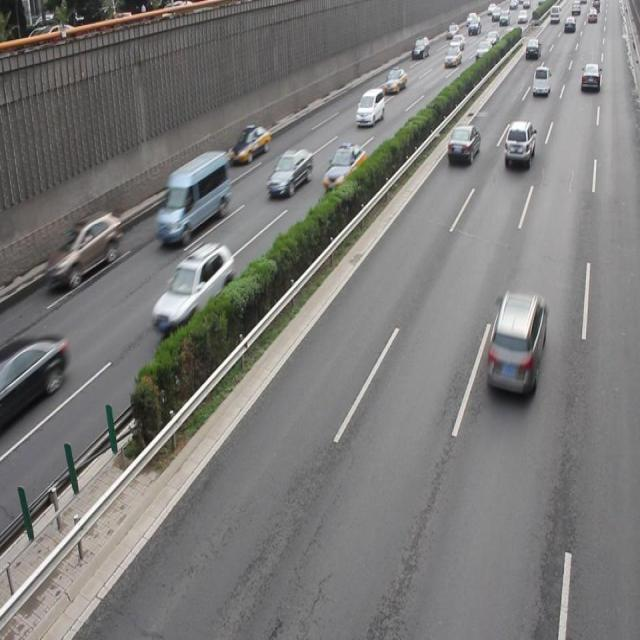car: (152, 241, 235, 330), (483, 288, 545, 395), (46, 210, 124, 290), (0, 331, 70, 414), (267, 146, 313, 196), (322, 142, 365, 192), (228, 123, 270, 165), (502, 119, 534, 170), (446, 122, 481, 166)
truck: (155, 148, 230, 245), (355, 87, 383, 126)
